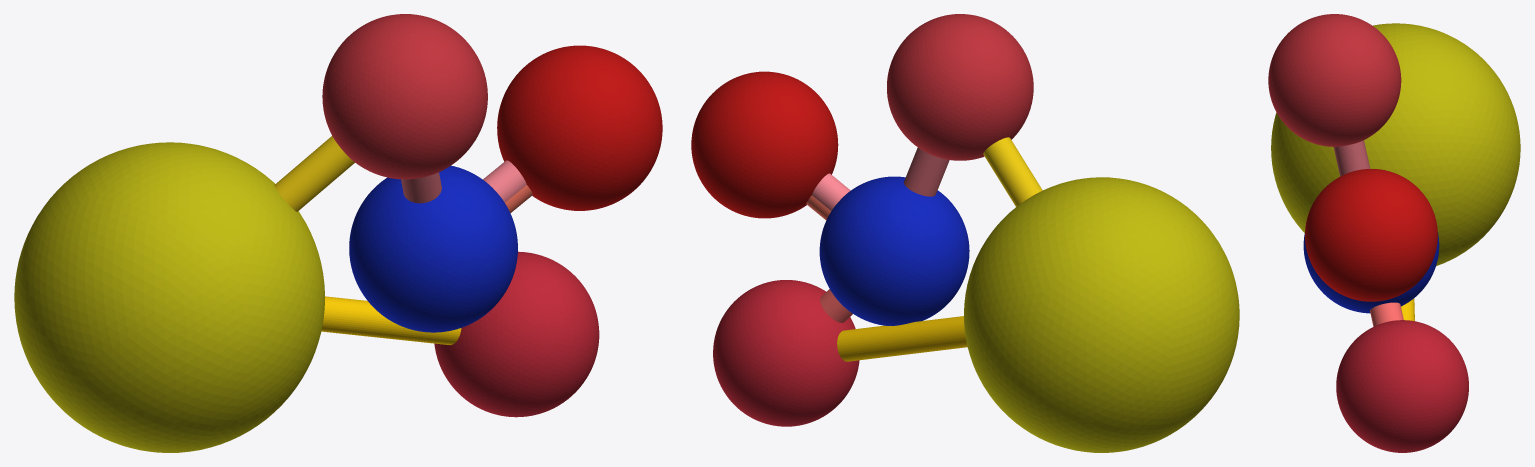
The model's file is calcium_carbonate.glb.
3 renders of one model, left to right at view 1: azimuth 30°, elevation 25°; view 2: azimuth 150°, elevation 25°; view 3: azimuth 270°, elevation 25°, orthographic. The views are drawn at different scales.
Parts seen in each view (by area): view 1: Calcium_Ca, Oxygen_O1, Oxygen_O2, Carbon_C, Oxygen_O3, Ca-O3, Ca-O1, C-O2-double-A, C-O1; view 2: Calcium_Ca, Carbon_C, Oxygen_O1, Oxygen_O2, Oxygen_O3, Ca-O3, Ca-O1, C-O1, C-O2-double-A, C-O3; view 3: Calcium_Ca, Oxygen_O2, Oxygen_O3, Oxygen_O1, Carbon_C, C-O1, C-O3.
Boxes of the visible parts, x1,y1,x2,y2 form: Calcium_Ca: (14, 142, 324, 452); Oxygen_O1: (322, 14, 487, 179); Oxygen_O2: (497, 45, 662, 210); Carbon_C: (349, 165, 517, 332); Oxygen_O3: (434, 251, 599, 417); Ca-O3: (321, 296, 461, 345); Ca-O1: (274, 136, 354, 211); C-O2-double-A: (483, 160, 526, 202); C-O1: (401, 172, 441, 203); Calcium_Ca: (964, 177, 1239, 452); Carbon_C: (819, 176, 969, 325); Oxygen_O1: (887, 14, 1033, 160); Oxygen_O2: (691, 71, 838, 218); Oxygen_O3: (713, 280, 859, 426); Ca-O3: (837, 316, 967, 361); Ca-O1: (983, 137, 1042, 206); C-O1: (903, 147, 949, 196); C-O2-double-A: (812, 173, 850, 210); C-O3: (820, 289, 852, 322); Calcium_Ca: (1271, 23, 1520, 265); Oxygen_O2: (1305, 169, 1437, 301); Oxygen_O3: (1336, 320, 1468, 452); Oxygen_O1: (1268, 14, 1401, 146); Carbon_C: (1303, 232, 1439, 313); C-O1: (1333, 140, 1370, 176); C-O3: (1370, 302, 1403, 326).
Bounding box in the file's own units: 2.05 × 1.49 × 0.93.
